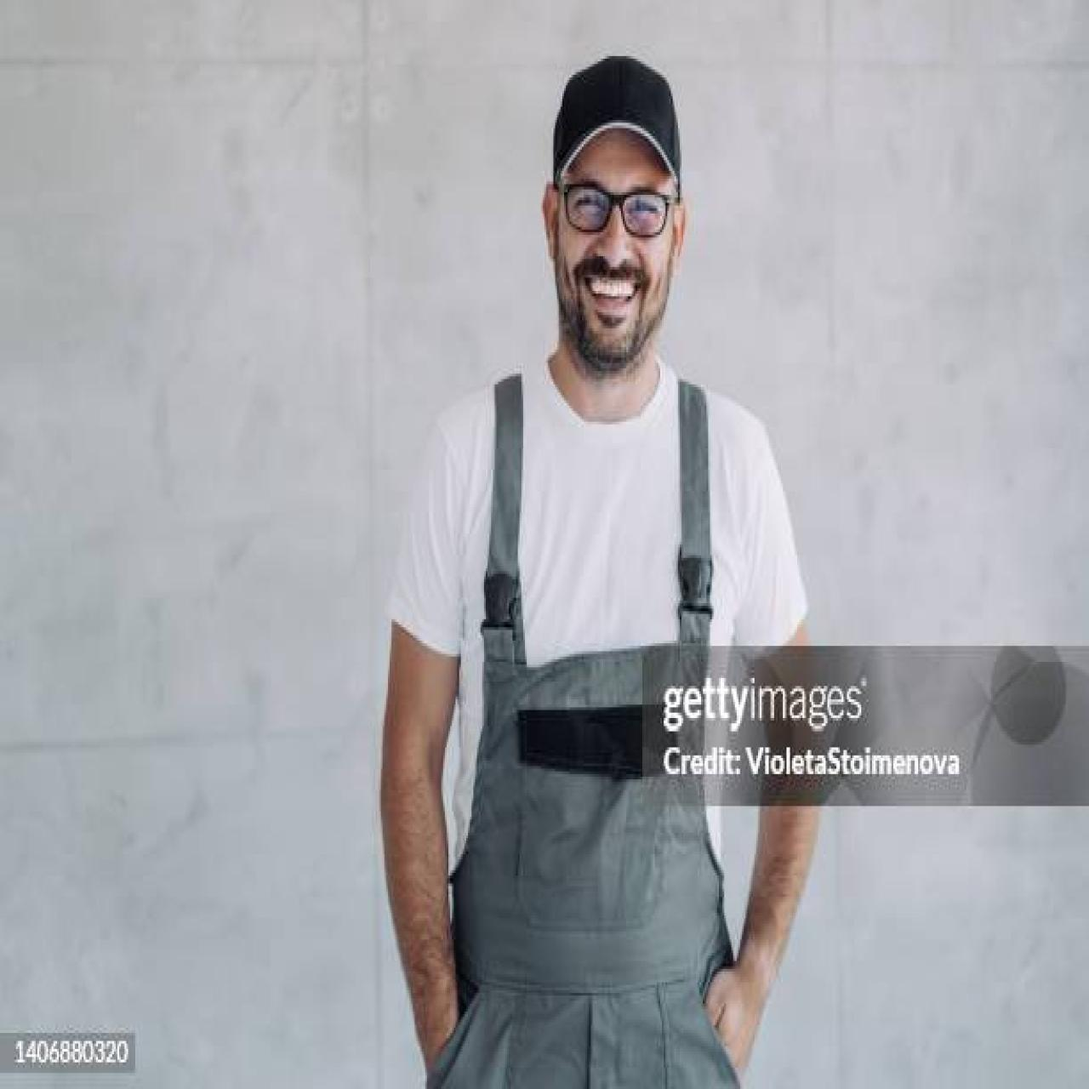NO_Safety_Vest: (406, 362, 812, 981)
Person: (352, 35, 857, 1089)
